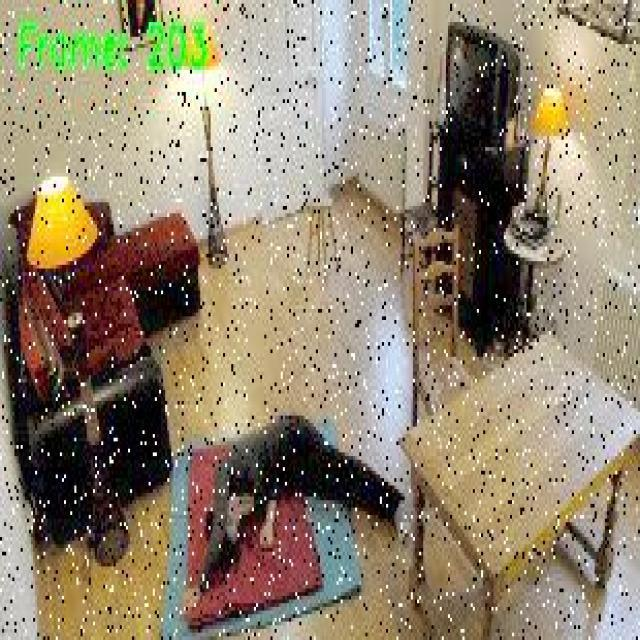fall: (174, 408, 414, 626)
